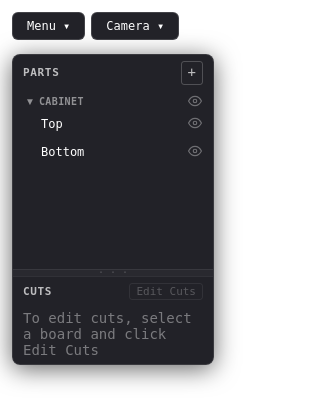
Test: Delete key removes selected assembly › removes the assembly row and member part rows from the outliner
Step 1. Click the list item with class "assembly-row" → (61,102), box [13,89,213,166]
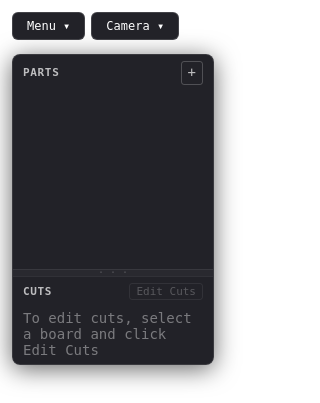
Result: the list item with class "assembly-row" is gone
Result: the list item with id "left-panel" no longer shows "Top"
Result: the list item with id "left-panel" no longer shows "Bottom"
